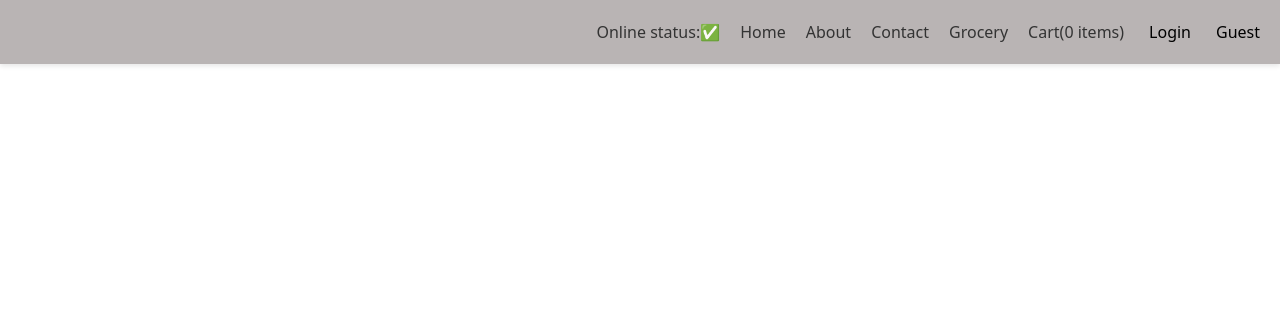
Should check if the Login page is rendered on click of Login Button
What coordinates should you click on to do the following:
click the button "Login"
I would click on:
 (1170, 32)
Its box is [1144,15,1196,49].
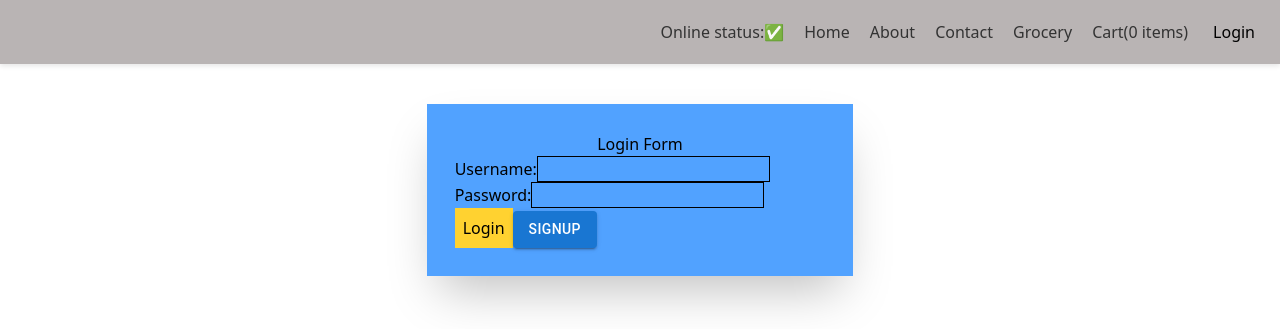
Now the heading "Login Form" is shown, box [597,133,683,155]
